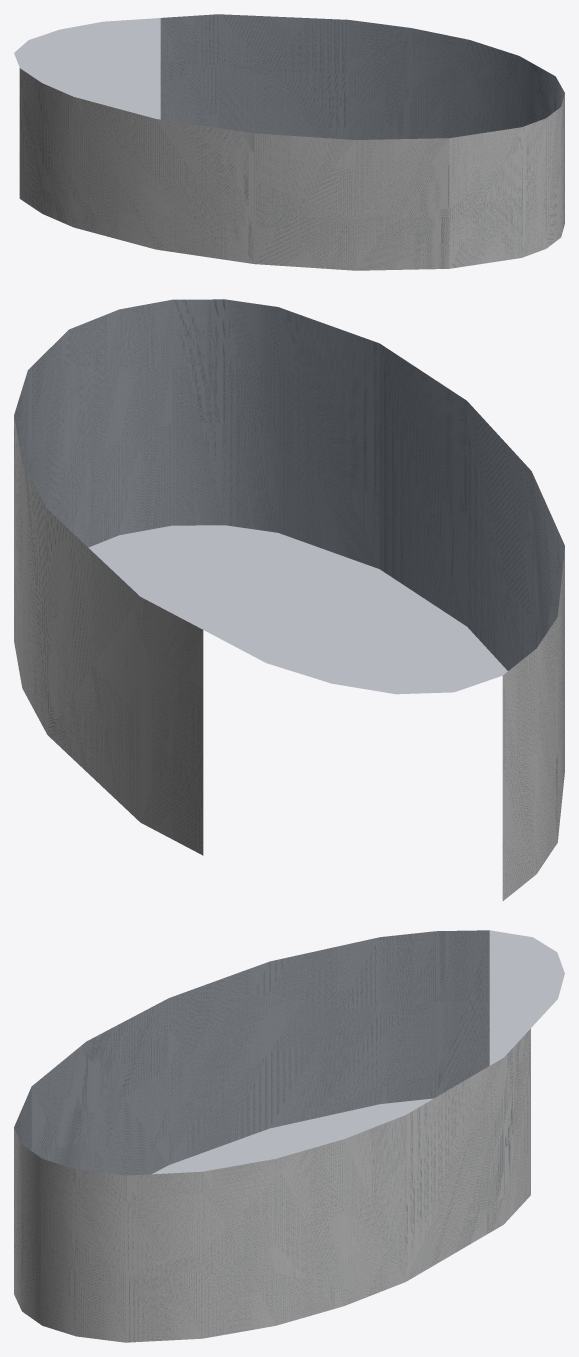
Rendered from original-21.obj.
The picture shows the model from 3 angles, top to bottom: view 1: azimuth 30°, elevation 25°; view 2: azimuth 150°, elevation 25°; view 3: azimuth 270°, elevation 25°; orthographic projection. The views are drawn at different scales.
Parts seen in each view (by area): view 1: #ID120; view 2: #ID120; view 3: #ID120.
Boxes of the visible parts, left/top/right/bottom form: #ID120: left=14, top=14, right=564, bottom=270; #ID120: left=14, top=299, right=564, bottom=900; #ID120: left=14, top=930, right=564, bottom=1342.
Size of the model in its own units: 0.00555 by 0.00176 by 0.00526.
